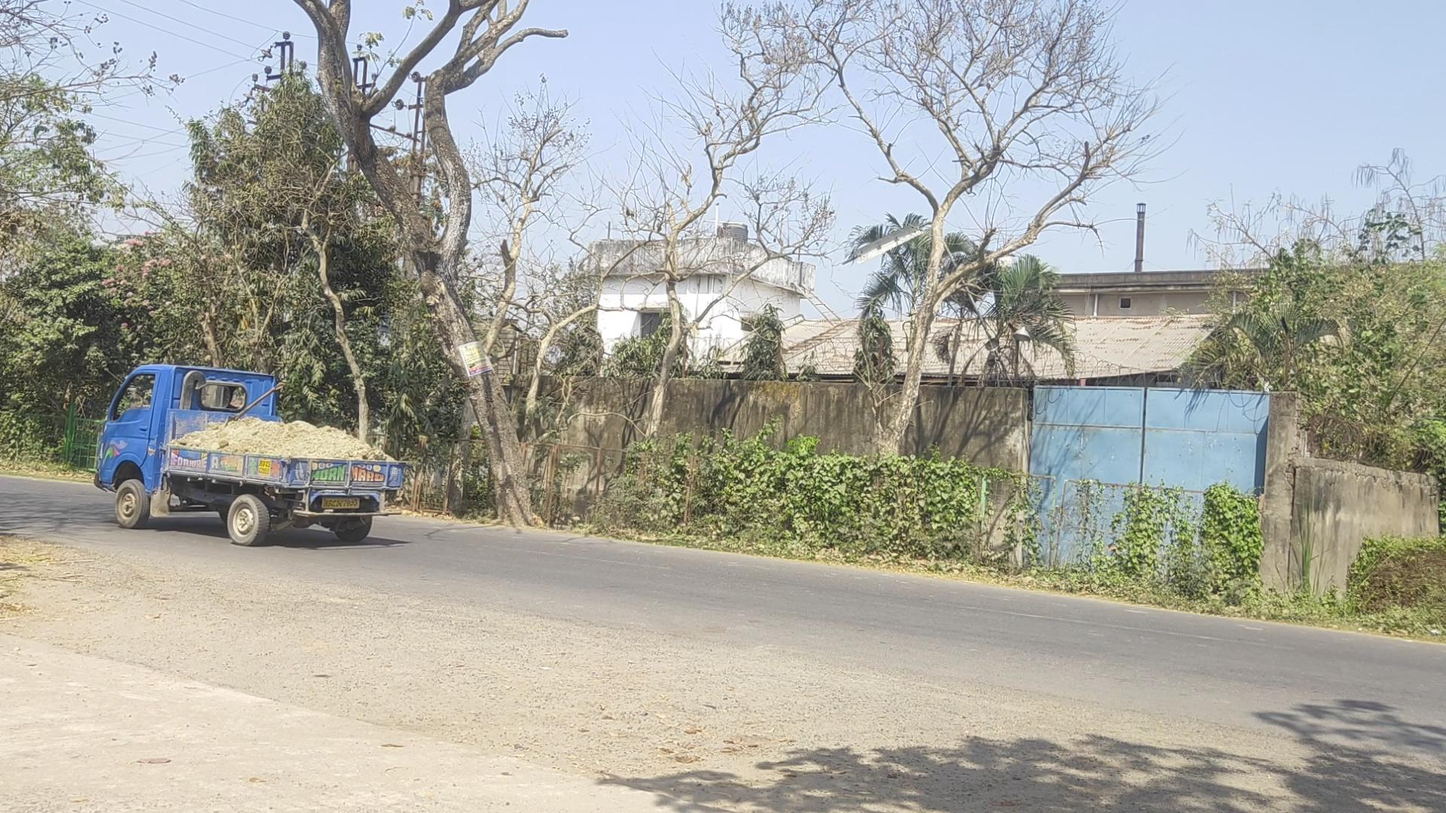van: (94, 364, 407, 547)
